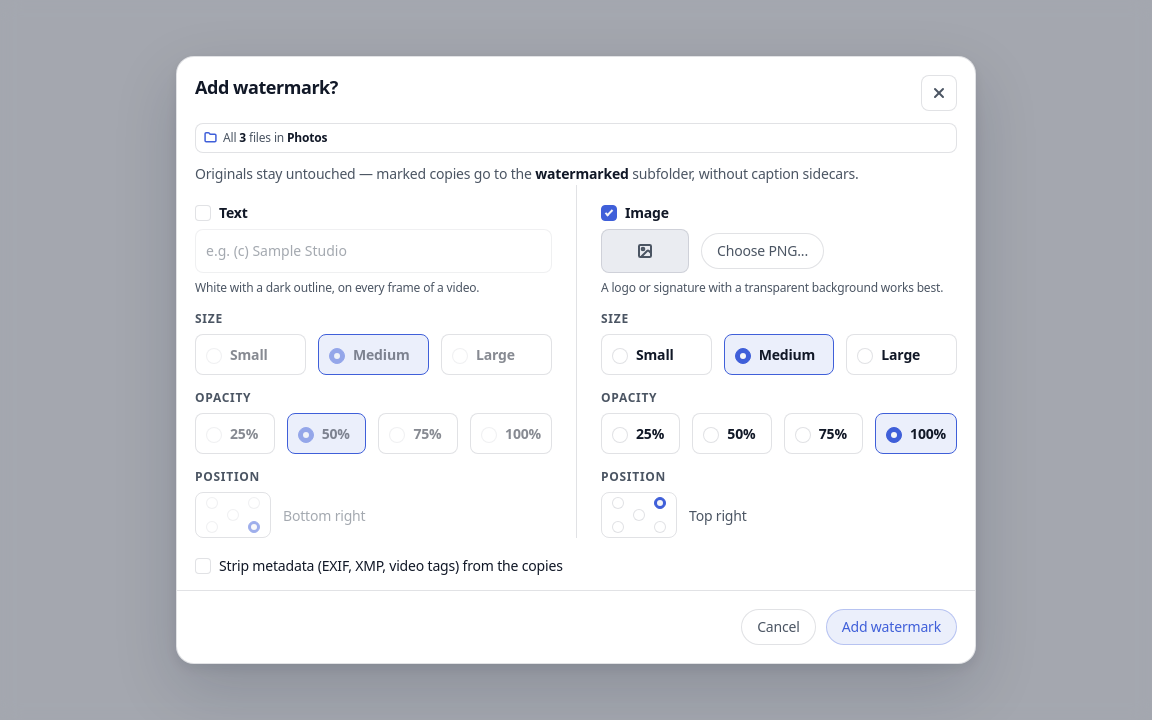
Scenario: WatermarkDialog › needs a PNG before a PNG watermark can start
Click the button "Add watermark" at (891, 627), box [826,609,957,645]
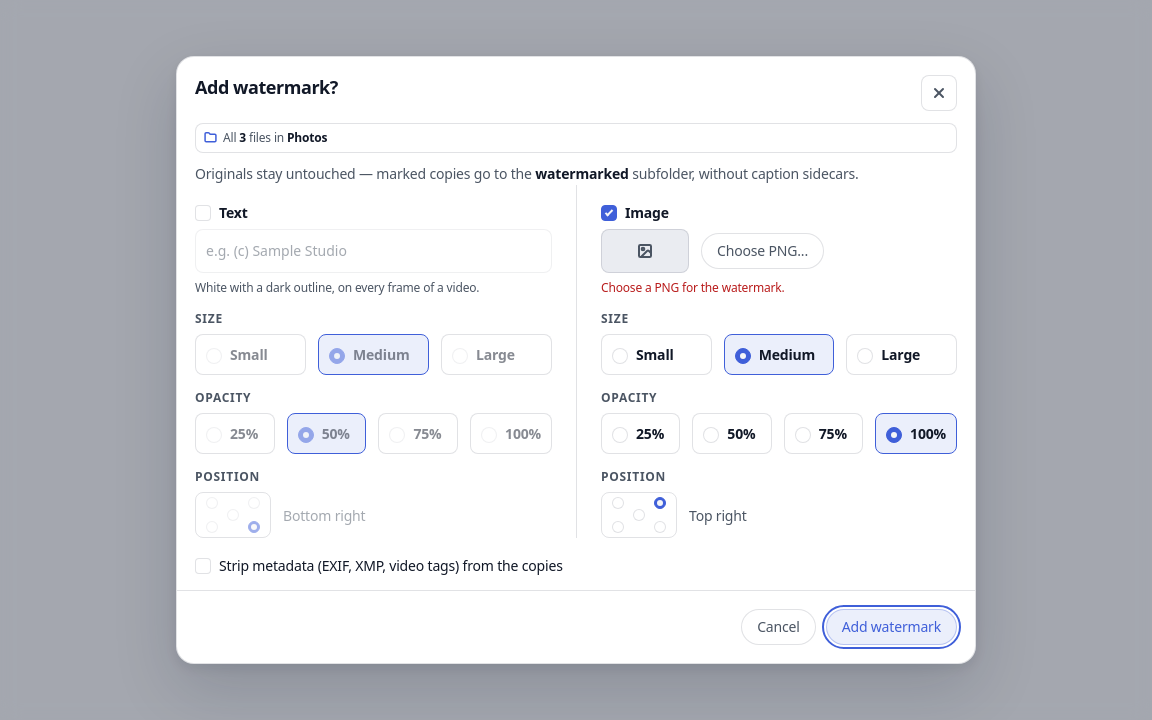
Result: the message reads "Choose a PNG for the watermark." at [601,279,785,296]
